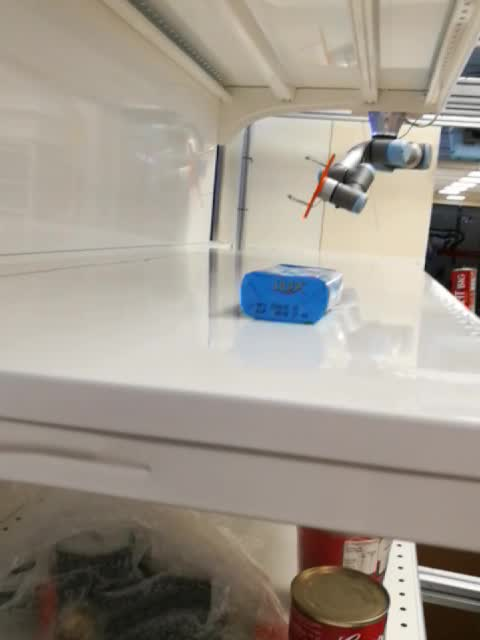soap: (238, 262, 345, 326)
